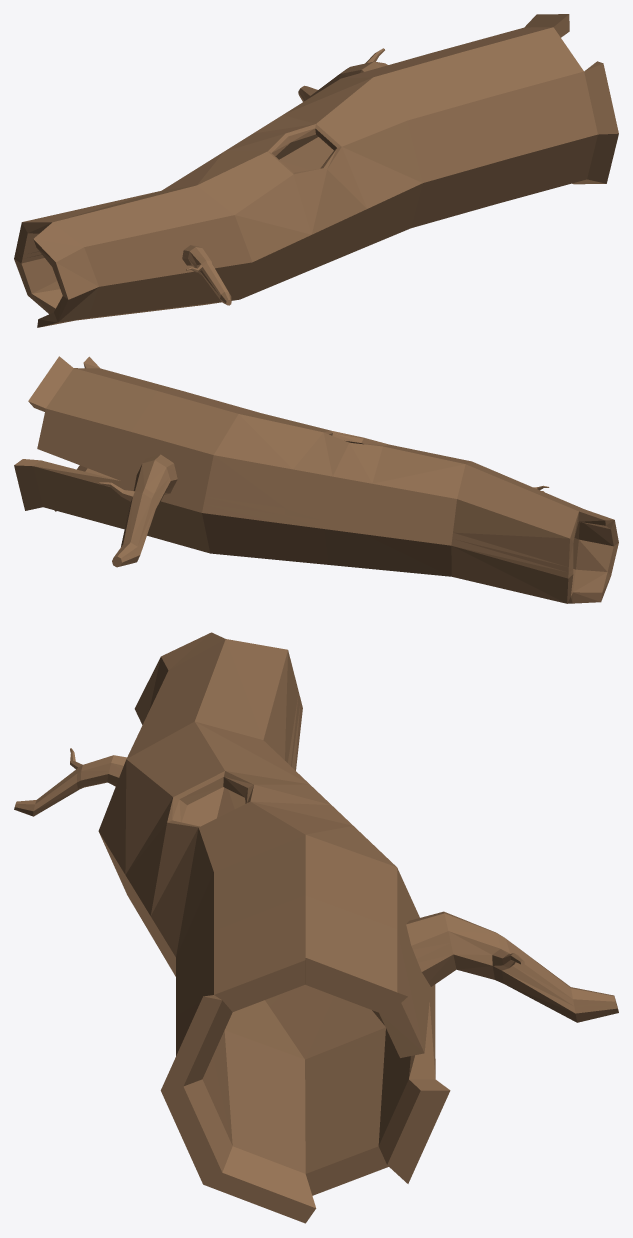
The model's file is log.fbx.
The picture shows the model from 3 angles, top to bottom: view 1: azimuth 30°, elevation 25°; view 2: azimuth 150°, elevation 25°; view 3: azimuth 270°, elevation 25°; orthographic projection. The views are drawn at different scales.
Parts seen in each view (by area): view 1: log; view 2: log; view 3: log.
Part boxes in pixels (left/top/right/bottom): log: left=14, top=14, right=618, bottom=327; log: left=14, top=356, right=618, bottom=603; log: left=14, top=632, right=618, bottom=1223.
Bounding box in the file's own units: 241 × 69.2 × 145.
